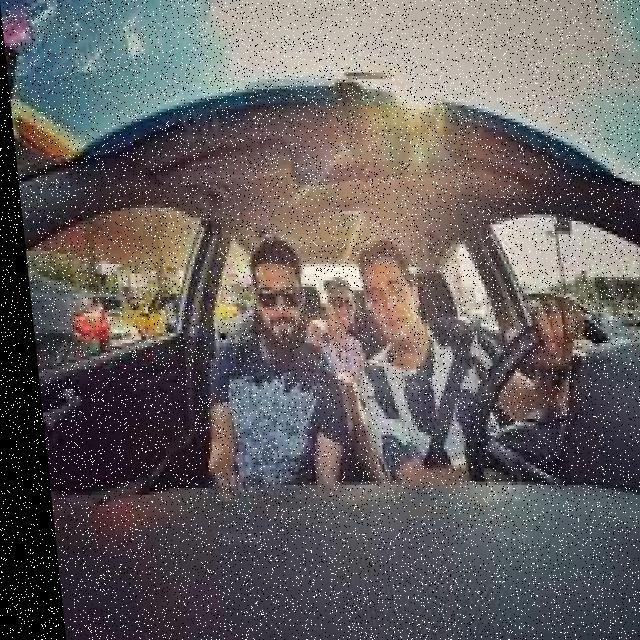noSeatbelt: (198, 334, 341, 485)
seatbelt: (352, 324, 490, 485)
